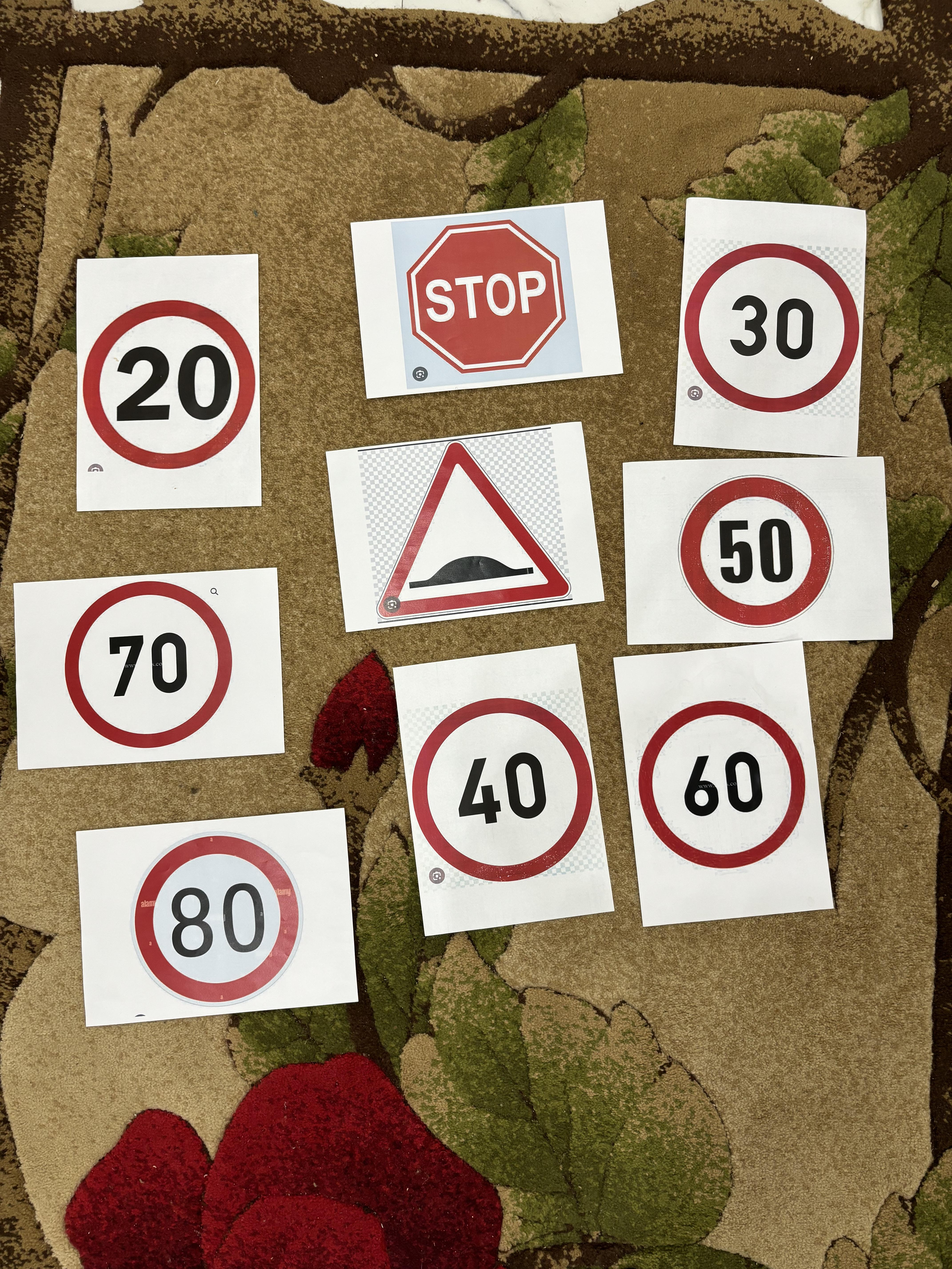20-Speed: (69, 287, 266, 472)
30-speed: (674, 234, 870, 417)
40-Speed: (403, 691, 607, 881)
50-Speed: (678, 471, 840, 630)
60-Speed: (632, 689, 813, 861)
70-Speed: (67, 576, 237, 755)
80-Speed: (127, 831, 306, 1004)
Hump: (385, 431, 578, 629)
Stop: (392, 216, 570, 371)
